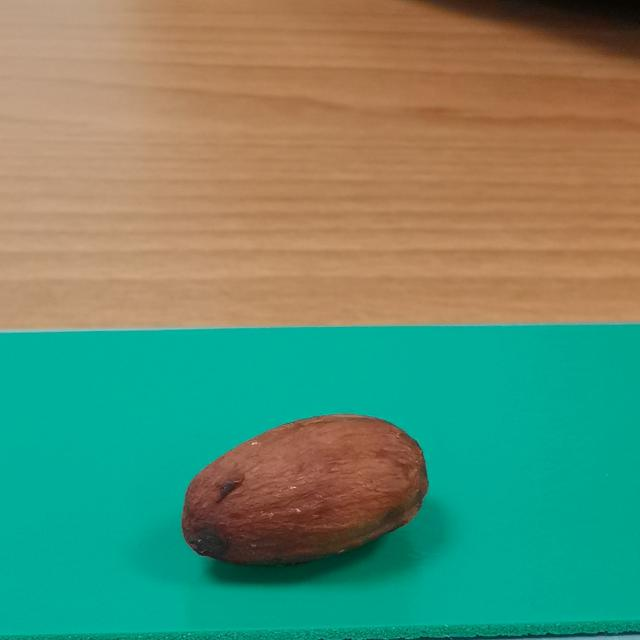Fine_cocoabeans: (121, 367, 485, 590)
